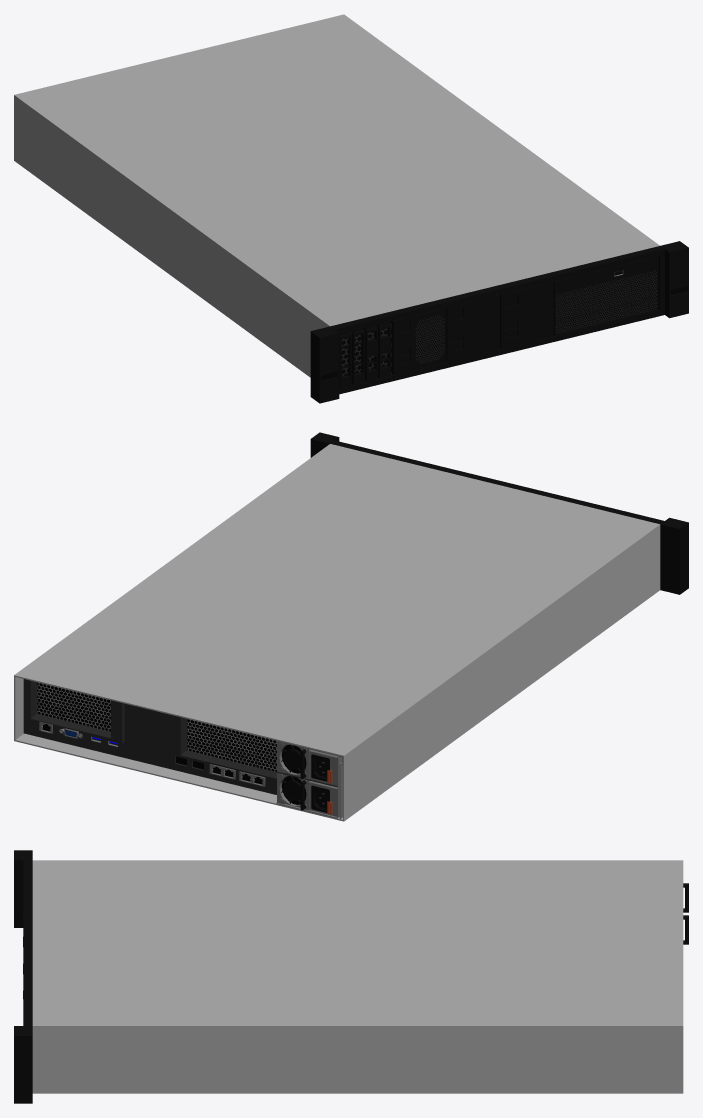
File: IBM_X3650 M5.fbx
The picture shows the model from 3 angles, top to bottom: view 1: azimuth 30°, elevation 25°; view 2: azimuth 150°, elevation 25°; view 3: azimuth 270°, elevation 25°; orthographic projection. The views are drawn at different scales.
Visible parts, largest first — view 1: IBM_X3650 M5; view 2: IBM_X3650 M5; view 3: IBM_X3650 M5.
Part boxes in pixels (x1,y1,x2,y2): IBM_X3650 M5: (14,14,688,403); IBM_X3650 M5: (14,432,688,821); IBM_X3650 M5: (14,850,688,1103).
Size of the model in its own units: 524 by 89.29 by 807.
10 materials, 2 textured.
